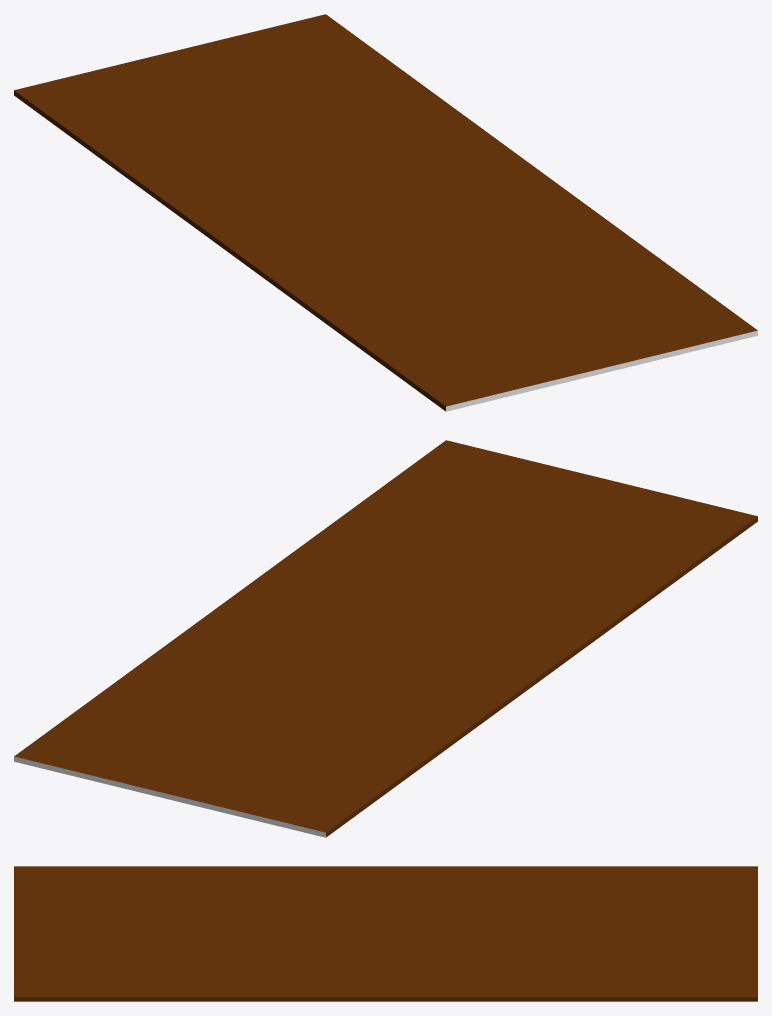
The model's file is Espejo1.fbx.
The picture shows the model from 3 angles, top to bottom: view 1: azimuth 30°, elevation 25°; view 2: azimuth 150°, elevation 25°; view 3: azimuth 270°, elevation 25°; orthographic projection. The views are drawn at different scales.
Parts seen in each view (by area): view 1: Model; view 2: Model; view 3: Model.
Part boxes in pixels (box(x1,y1,x2,y2)): Model: box(14, 14, 757, 411); Model: box(14, 440, 757, 837); Model: box(14, 866, 757, 1001).
Size of the model in its own units: 1.25 by 0.04 by 3.
